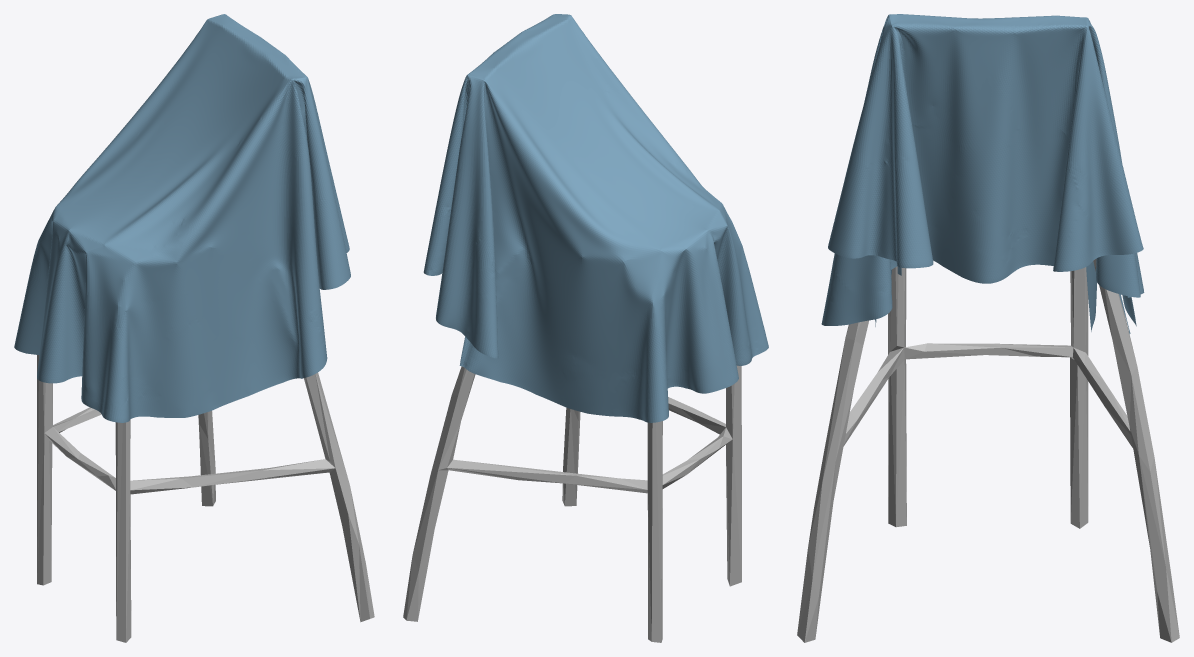
Rendered from level_4.glb.
3 renders of one model, left to right at view 1: azimuth 30°, elevation 25°; view 2: azimuth 150°, elevation 25°; view 3: azimuth 270°, elevation 25°, orthographic. The views are drawn at different scales.
Visible parts, largest first — view 1: world, object.obj; view 2: world, object.obj; view 3: world, object.obj.
Part boxes in pixels (x1,y1,x2,y2): world: (14, 14, 350, 422); object.obj: (37, 355, 374, 642); world: (423, 14, 768, 422); object.obj: (403, 365, 741, 642); world: (821, 14, 1144, 333); object.obj: (797, 259, 1179, 642).
Bounding box in the file's own units: 0.2309 × 0.4235 × 0.2427.
